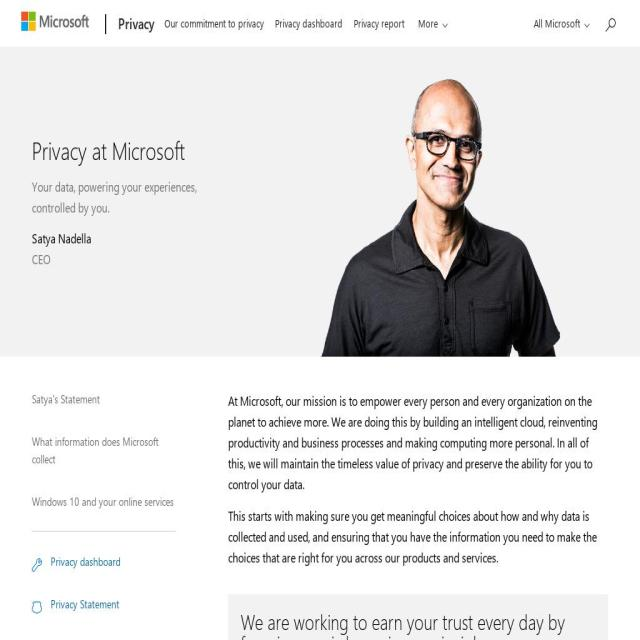button: (159, 1, 269, 41), (270, 1, 348, 41), (524, 1, 593, 46), (348, 1, 410, 41), (410, 1, 458, 46), (112, 1, 158, 46), (599, 2, 621, 40)
heading: (32, 135, 216, 166)
image: (277, 64, 608, 358), (32, 558, 42, 572), (32, 601, 42, 615)
link: (32, 433, 159, 468), (32, 493, 174, 510), (51, 553, 121, 570), (31, 391, 100, 407), (51, 596, 120, 612), (51, 638, 146, 640)
text: (228, 390, 608, 495), (228, 504, 608, 568), (240, 611, 596, 640), (32, 175, 216, 217), (32, 248, 216, 270), (32, 228, 216, 249), (118, 12, 154, 35), (534, 16, 580, 30)
